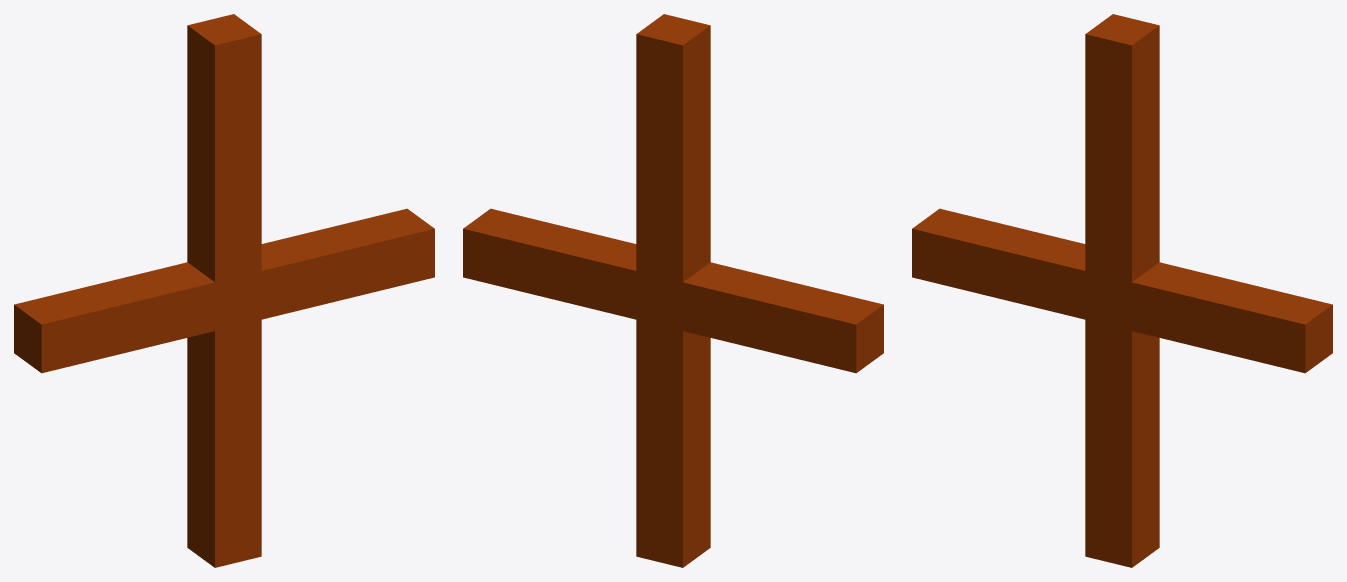
Rendered from window.fbx.
3 views of the same model, side by side, from view 1: azimuth 30°, elevation 25°; view 2: azimuth 150°, elevation 25°; view 3: azimuth 330°, elevation 25° (orthographic).
Visible parts, largest first — view 1: fenetre; view 2: fenetre; view 3: fenetre.
Boxes of the visible parts, box(x1,y1,x2,y2) form: fenetre: box(14, 14, 434, 567); fenetre: box(463, 14, 883, 567); fenetre: box(912, 14, 1332, 567).
Bounding box in the file's own units: 388 × 492 × 46.97.
